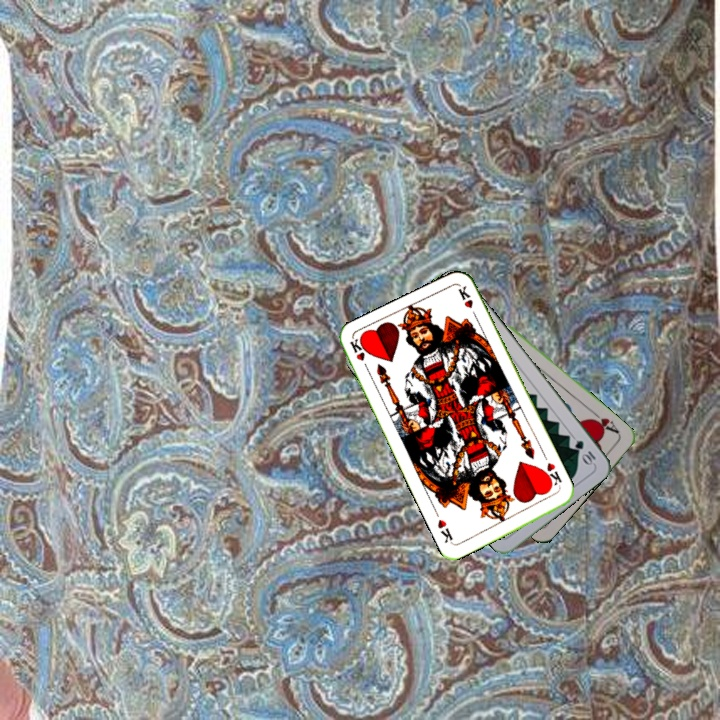G10: (571, 436, 598, 468)
HA: (586, 407, 622, 436)
HK: (346, 335, 372, 375), (539, 458, 565, 490)
